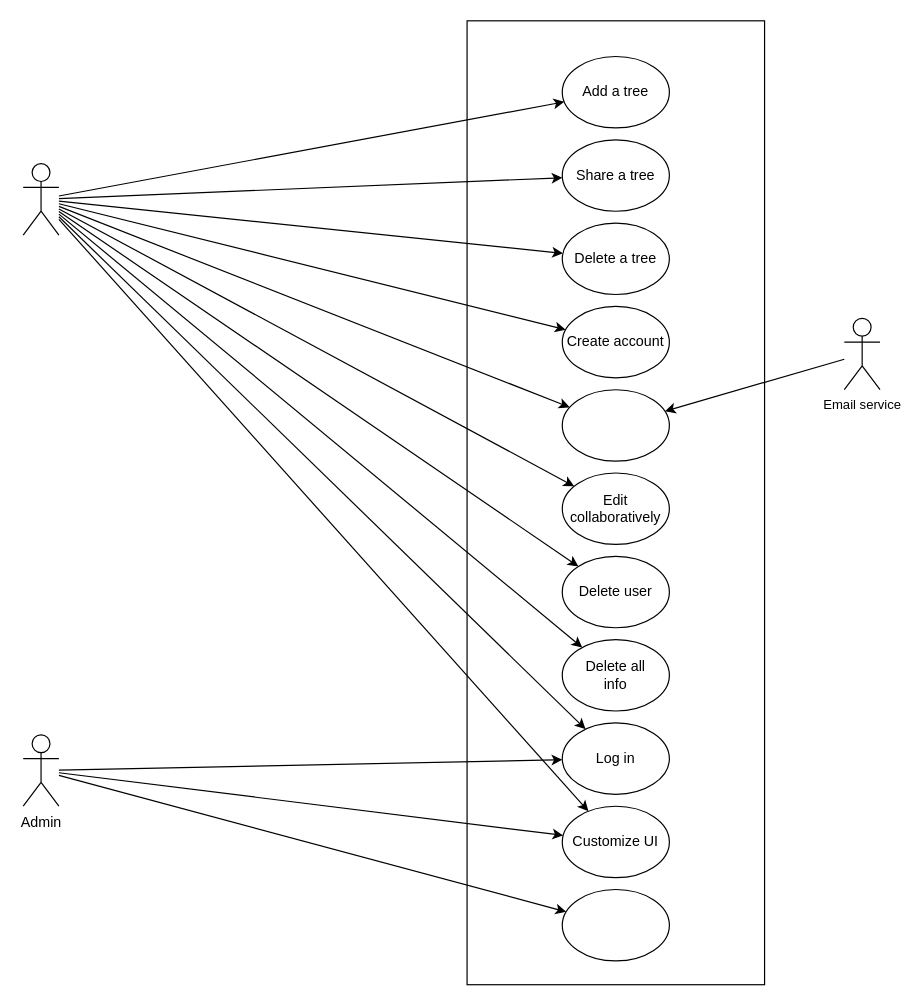
Image size: 921x1006. Some labels were removed from this diagram. Here are the shapes that lost their labels. From the top down, the box of each, then its label:
(22, 162, 59, 235): User
(561, 389, 669, 461): Reset password
(466, 20, 765, 985): FamilyFrame
(561, 888, 669, 961): Manage users
